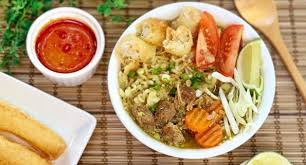soto: (108, 3, 277, 157)
